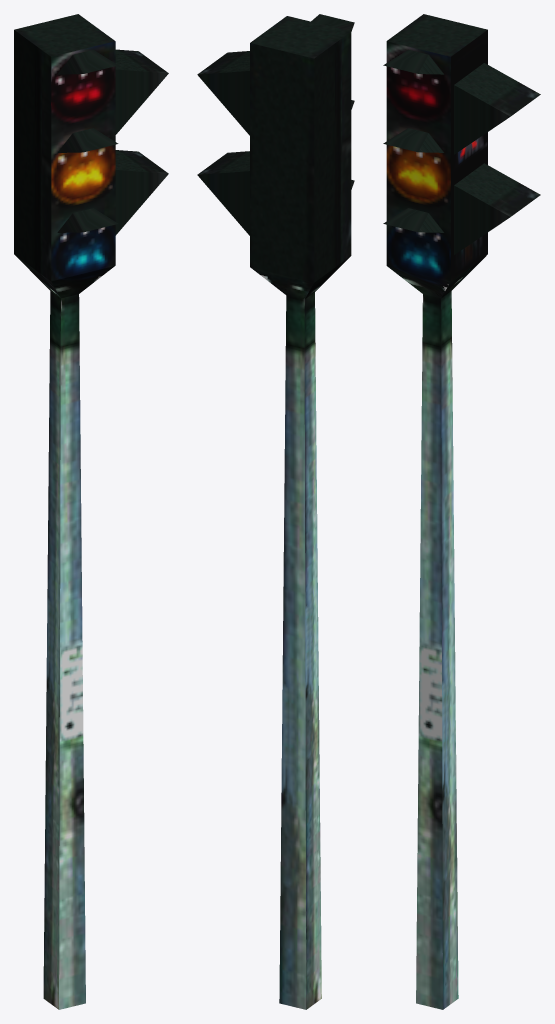
Rendered from traffic_light.01.with_walking_signs.lod0.obj.
3 views of the same model, side by side, from view 1: azimuth 30°, elevation 25°; view 2: azimuth 150°, elevation 25°; view 3: azimuth 330°, elevation 25° (orthographic).
Parts seen in each view (by area): view 1: semaforolowress02; view 2: semaforolowress02; view 3: semaforolowress02.
Part boxes in pixels (x1=…): semaforolowress02: x1=14, y1=14, x2=168, y2=1009; semaforolowress02: x1=197, y1=14, x2=354, y2=1009; semaforolowress02: x1=383, y1=14, x2=540, y2=1009.
Size of the model in its own units: 297 by 2264 by 234.
1 material, 1 textured.
